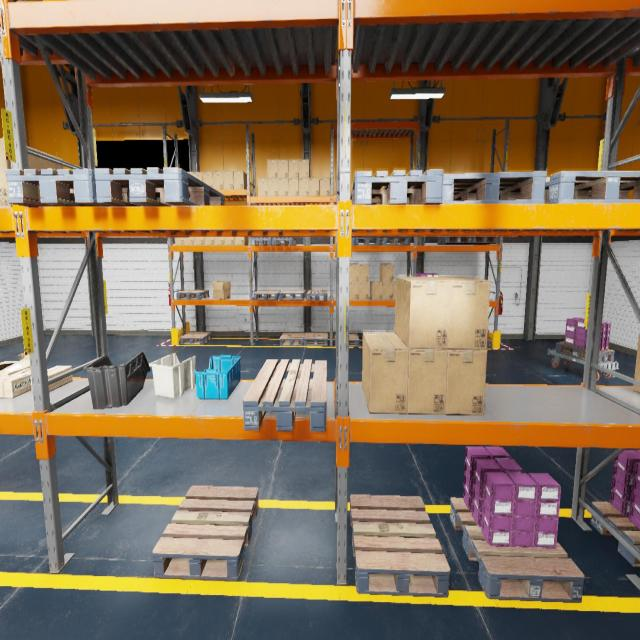box: (428, 276, 491, 349), (0, 137, 63, 206), (396, 334, 448, 414), (395, 276, 450, 349), (362, 332, 409, 414), (445, 349, 487, 415), (31, 366, 72, 392), (0, 368, 31, 397), (0, 352, 30, 377), (633, 335, 640, 393), (212, 281, 231, 299), (380, 281, 393, 300), (380, 264, 393, 282), (298, 159, 310, 178), (233, 172, 247, 188), (370, 281, 382, 299), (267, 159, 278, 178), (358, 264, 369, 282), (288, 178, 299, 196), (288, 159, 298, 178), (278, 159, 288, 178), (349, 264, 359, 282), (223, 171, 233, 189), (213, 171, 223, 189), (278, 178, 288, 196), (268, 178, 278, 196), (258, 178, 268, 196), (358, 282, 368, 299), (349, 282, 359, 299), (320, 178, 330, 195), (309, 178, 319, 195), (299, 178, 309, 195), (203, 172, 213, 188), (234, 237, 248, 245), (192, 172, 203, 182), (224, 237, 234, 245), (214, 237, 224, 245), (204, 237, 214, 245), (194, 237, 204, 245), (184, 237, 194, 245), (175, 237, 184, 245), (393, 281, 395, 300), (336, 26, 337, 52), (187, 171, 192, 175)
pallets: (450, 498, 584, 602), (350, 494, 450, 598), (152, 485, 258, 581), (242, 359, 326, 432), (5, 169, 157, 206), (94, 168, 224, 205), (441, 171, 547, 204), (590, 502, 640, 566), (351, 170, 443, 204), (544, 171, 640, 203), (556, 341, 614, 364), (180, 332, 212, 344), (280, 332, 305, 346), (304, 333, 328, 346), (176, 290, 209, 299), (335, 334, 359, 346), (253, 290, 281, 300), (279, 290, 305, 300), (461, 237, 498, 244), (437, 237, 472, 244), (307, 290, 327, 300), (272, 237, 296, 245), (381, 238, 408, 245), (355, 238, 380, 245), (251, 237, 272, 245), (334, 238, 355, 245), (487, 339, 492, 348)
